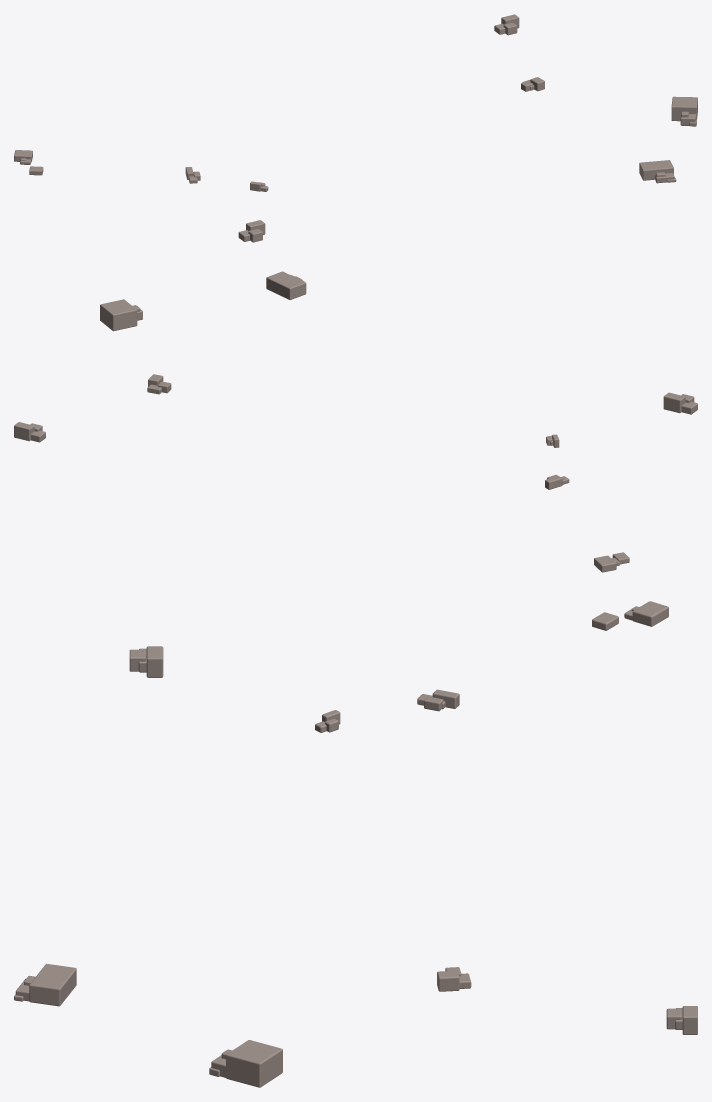
File: Batu1.fbx
3 renders of one model, top to bottom at view 1: azimuth 30°, elevation 25°; view 2: azimuth 150°, elevation 25°; view 3: azimuth 270°, elevation 25°, orthographic. The views are drawn at different scales.
Parts seen in each view (by area): view 1: batu; view 2: batu; view 3: batu.
Boxes of the visible parts, x1,y1,x2,y2 form: batu: [14, 14, 697, 242]; batu: [14, 271, 697, 572]; batu: [14, 601, 697, 1087].
Bounding box in the file's own units: 7558 × 340 × 4651.
